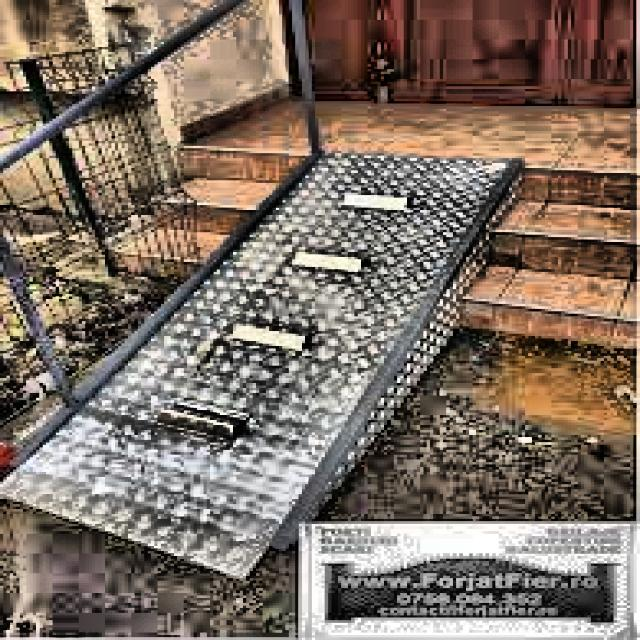escada: (459, 165, 640, 348), (107, 143, 310, 280)
